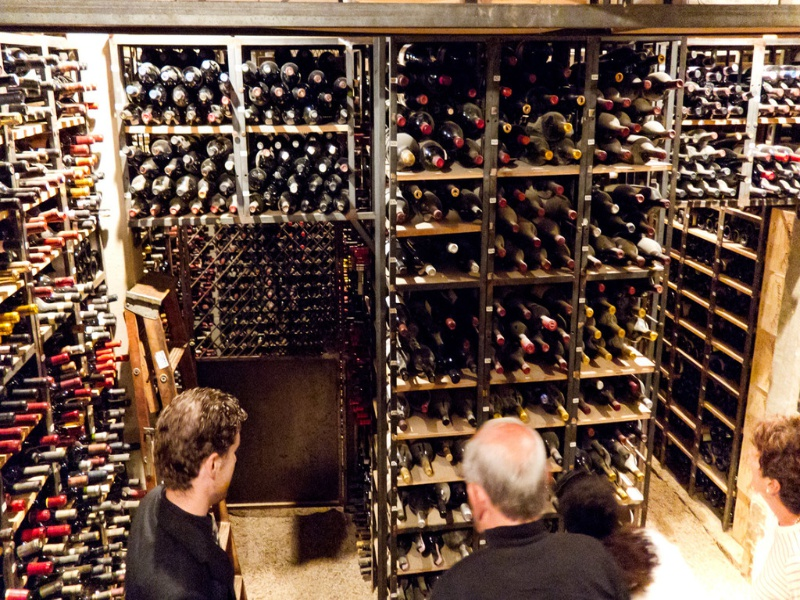wine: (388, 41, 686, 598), (106, 35, 376, 359), (2, 27, 151, 600), (667, 31, 800, 523)
